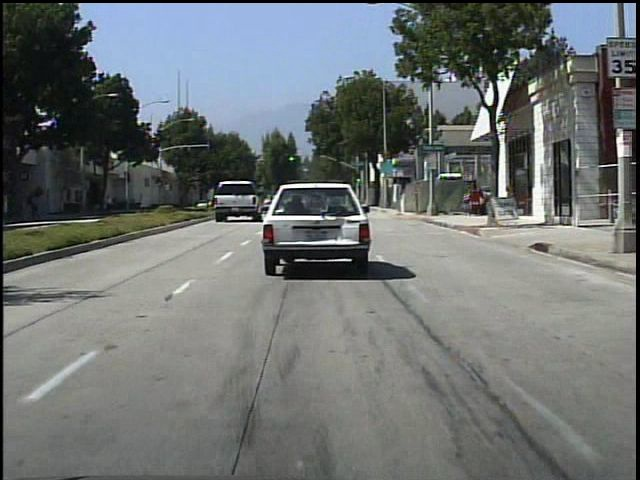person: (28, 195, 47, 226)
